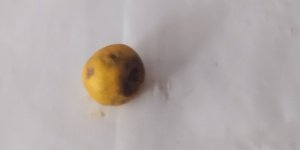BAD: (80, 42, 147, 107)
